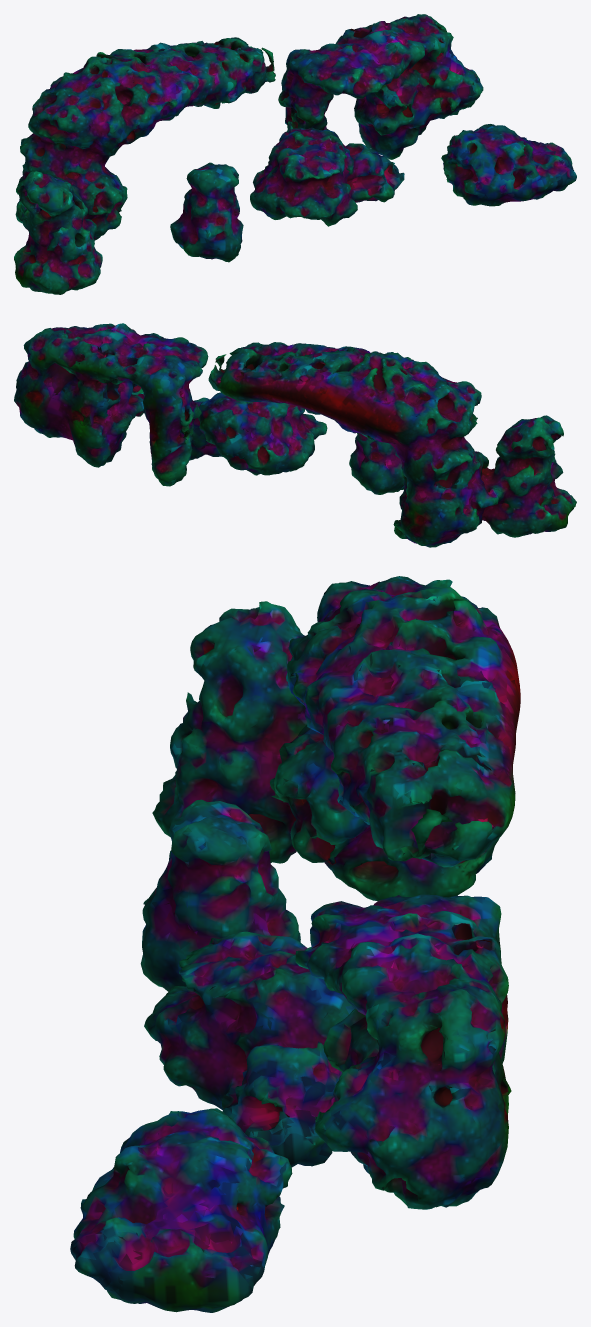
File: rockscape.glb
3 renders of one model, top to bottom at view 1: azimuth 30°, elevation 25°; view 2: azimuth 150°, elevation 25°; view 3: azimuth 270°, elevation 25°, orthographic. The views are drawn at different scales.
Visible parts, largest first — view 1: Rock; view 2: Rock; view 3: Rock.
Boxes of the visible parts, bbox=[...] form: Rock: bbox=[14, 14, 576, 294]; Rock: bbox=[14, 323, 576, 547]; Rock: bbox=[70, 576, 520, 1312].
Bounding box in the file's own units: 122 × 37.36 × 45.08.
Materials: 1 (1 with a texture image).
